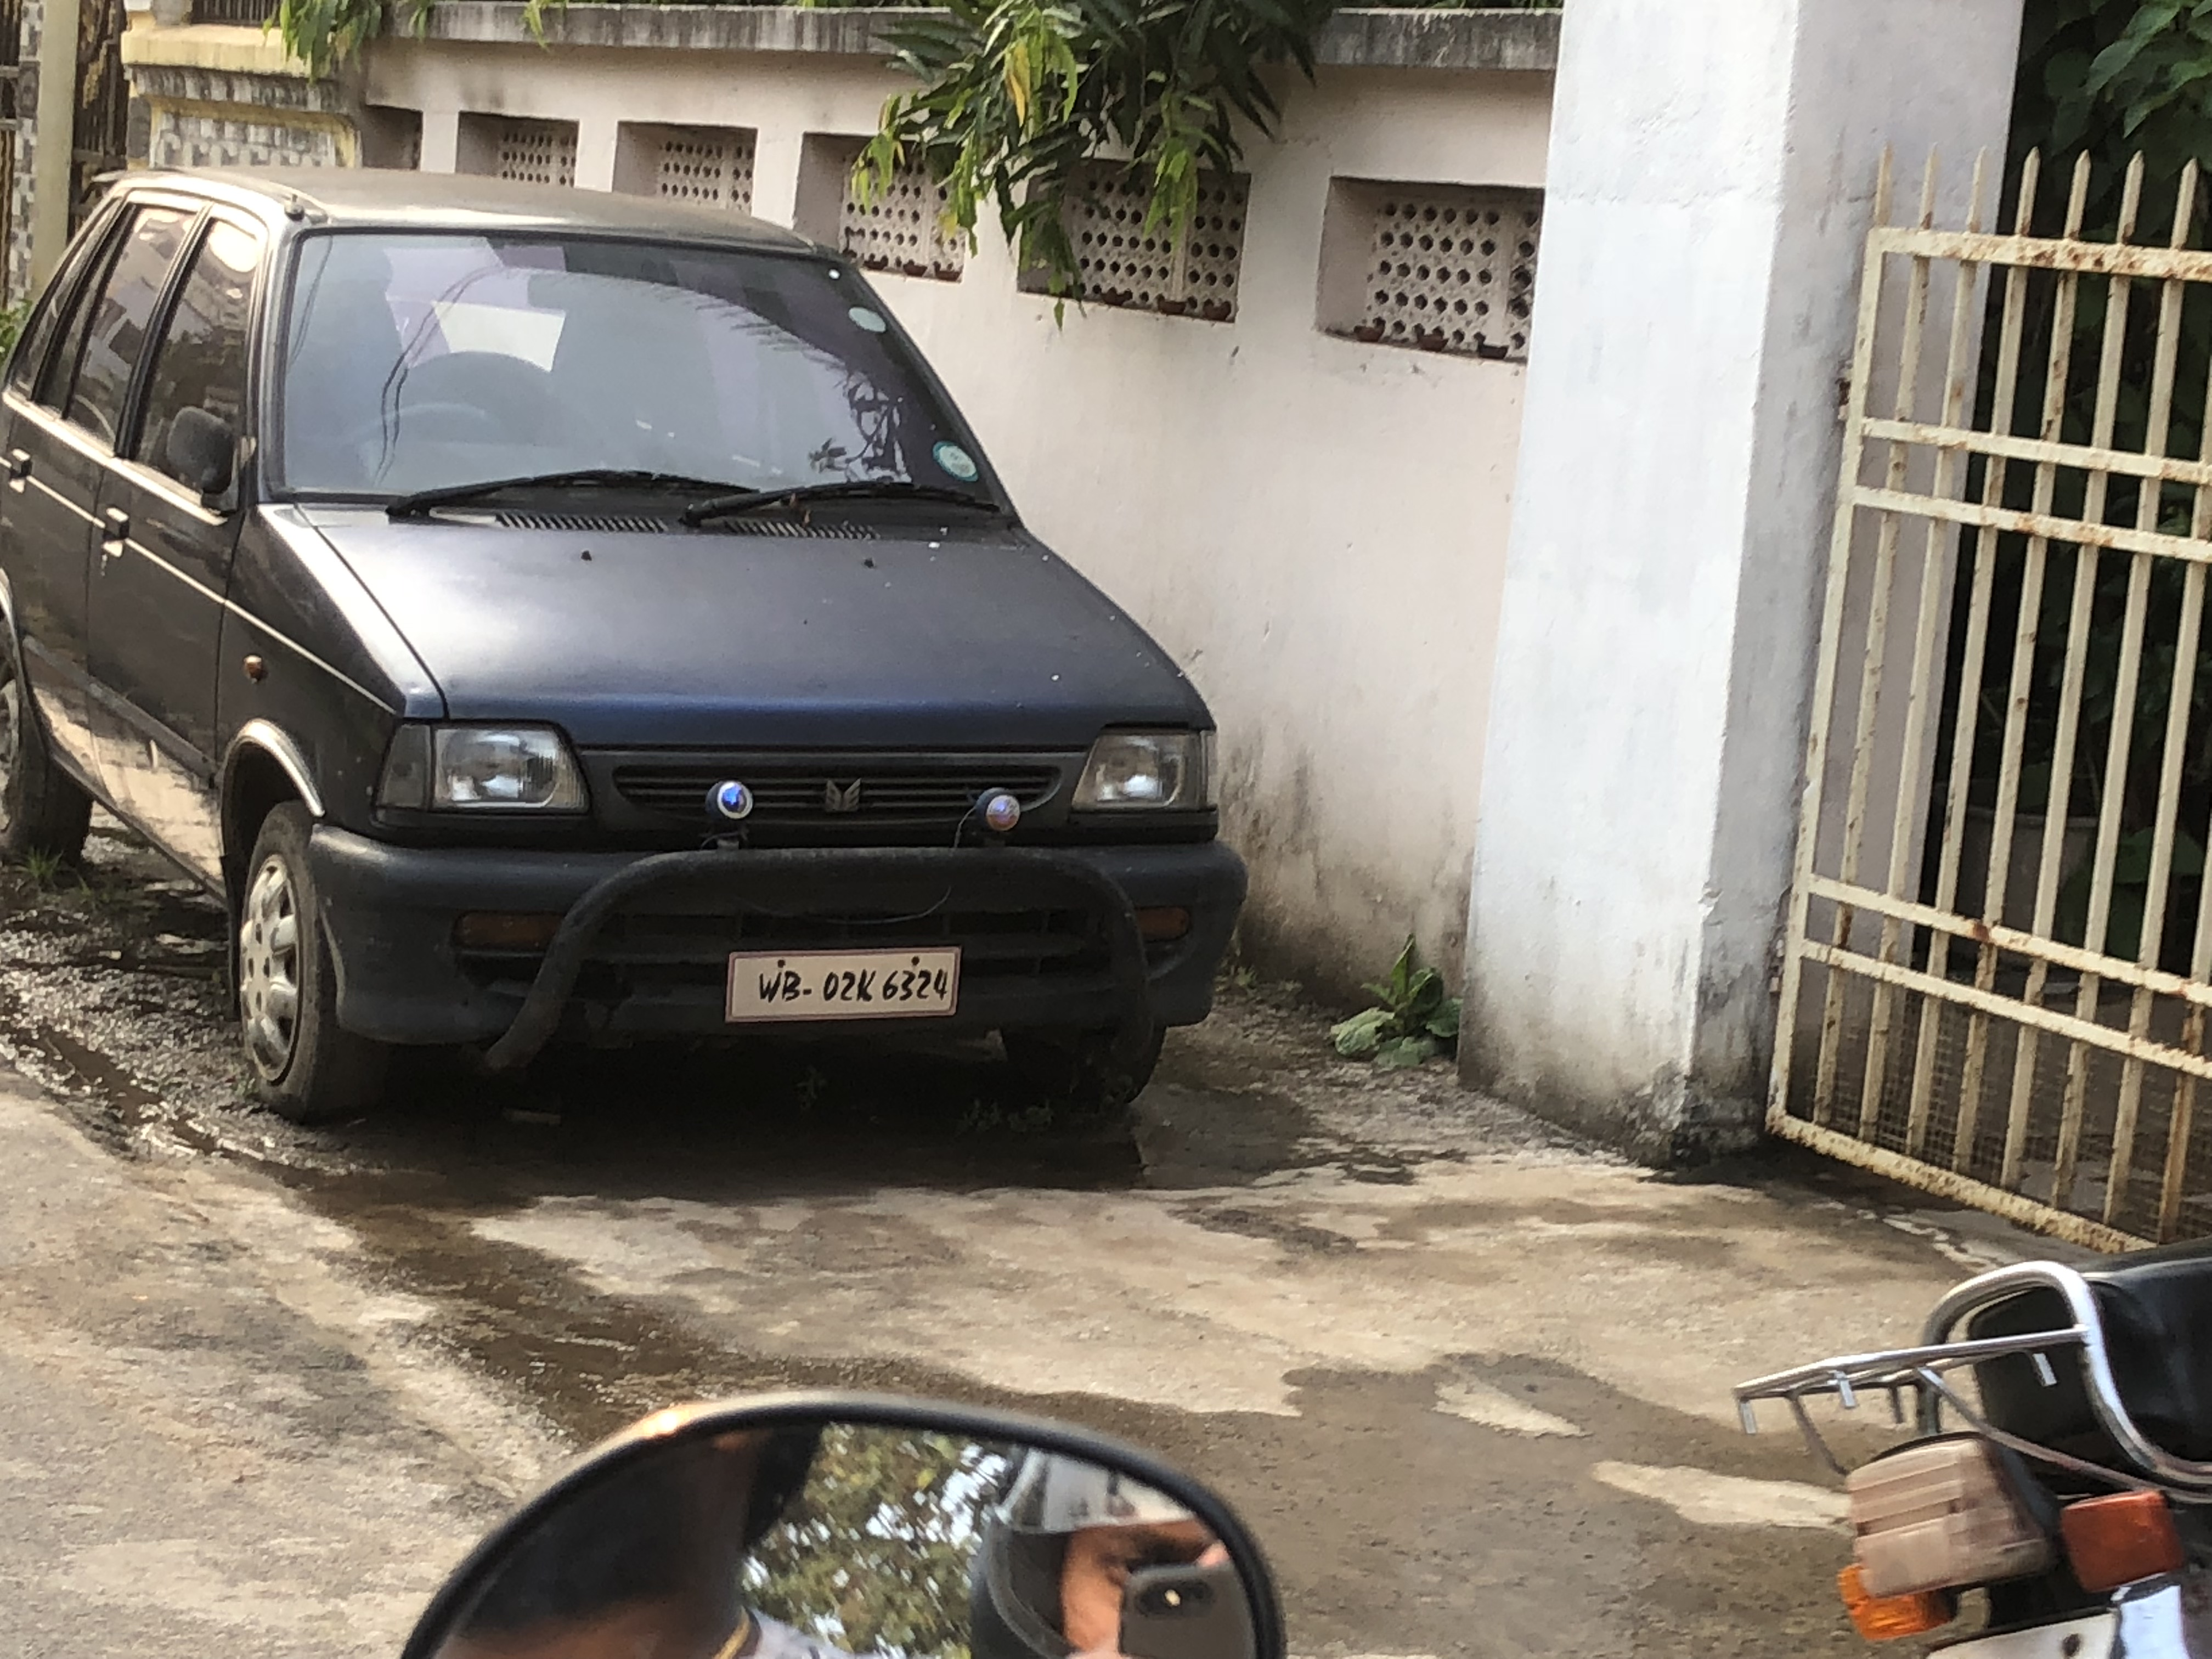licenseplate: (723, 941, 976, 1030)
